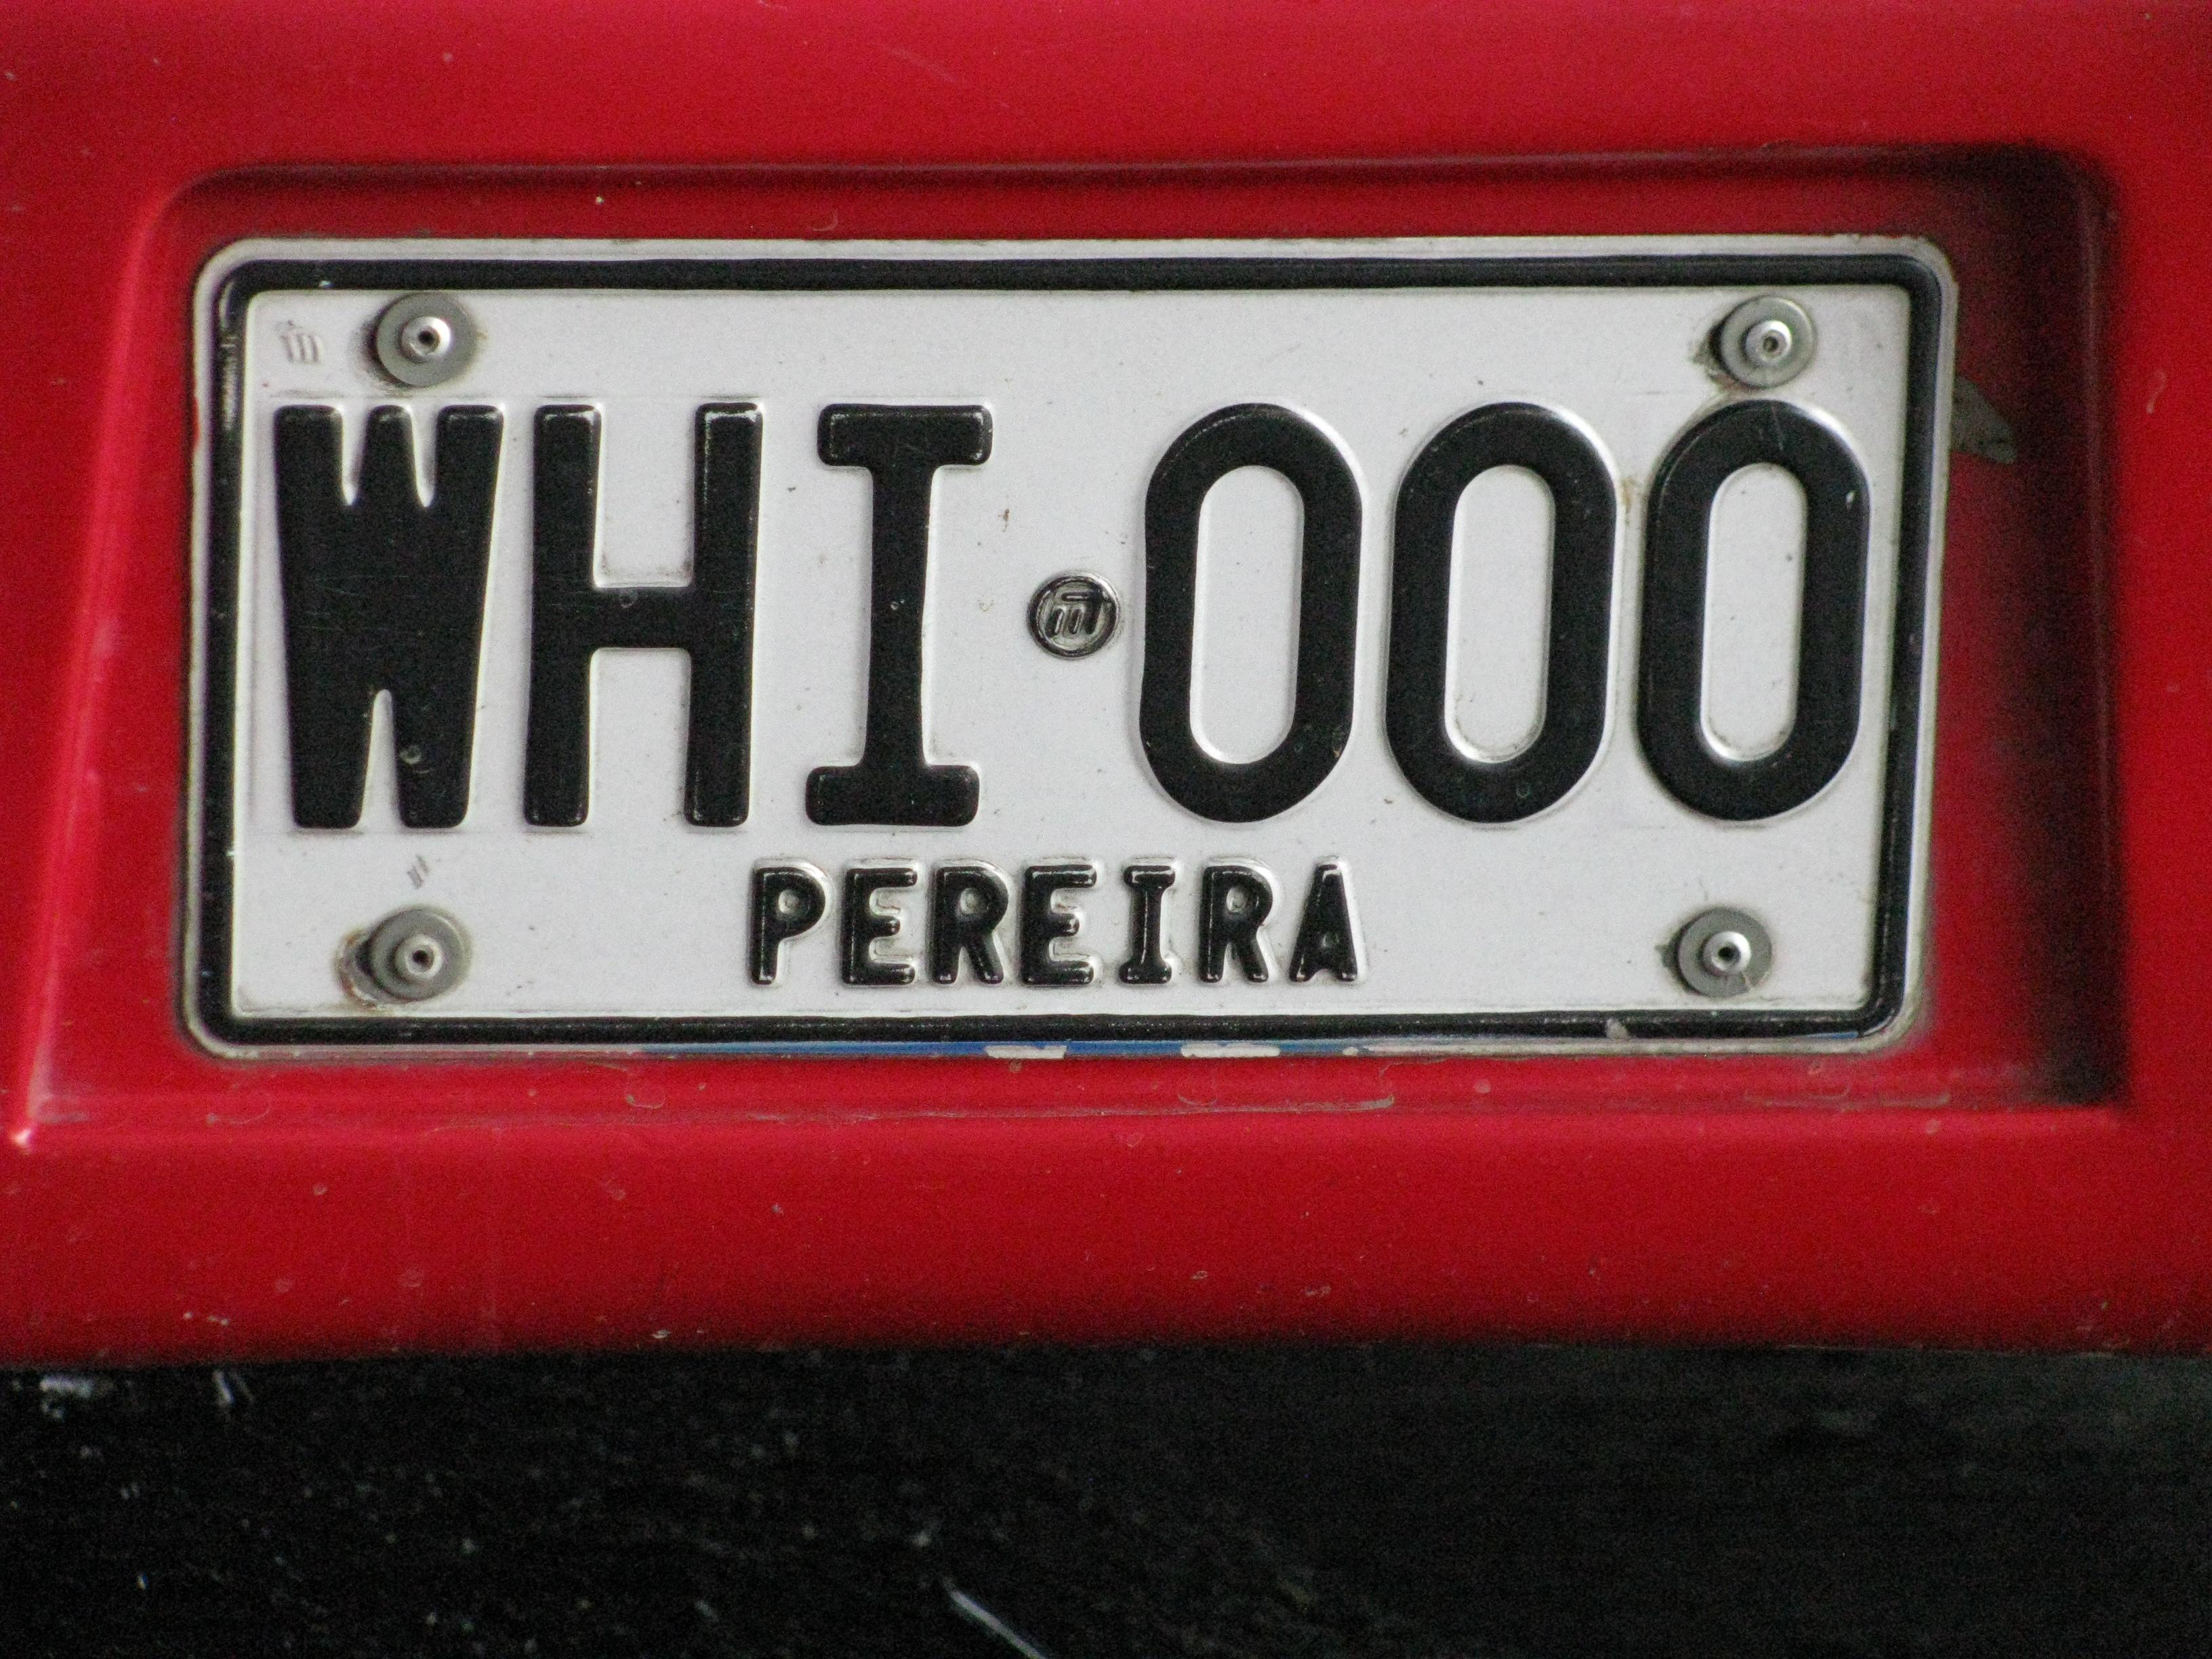placas: (172, 216, 1965, 1061)
